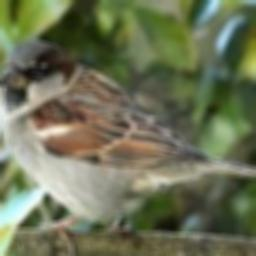Sparrow: (0, 38, 256, 251)
